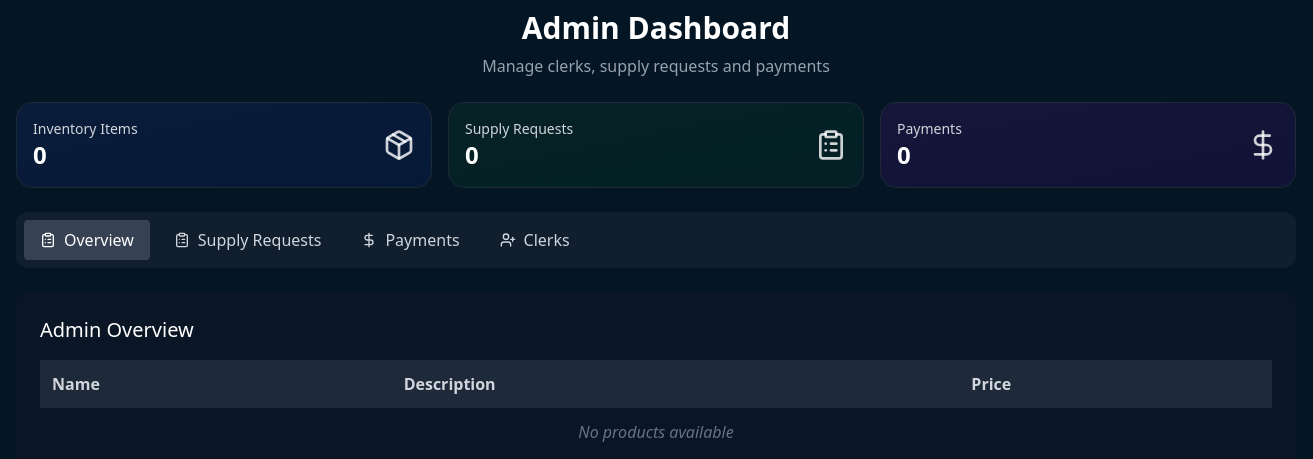
AdminDashboard › switches to supply requests tab
What coordinates should you click on to do the following:
click the button "Supply Requests"
I would click on:
 (248, 240)
Its box is [158,220,337,260].
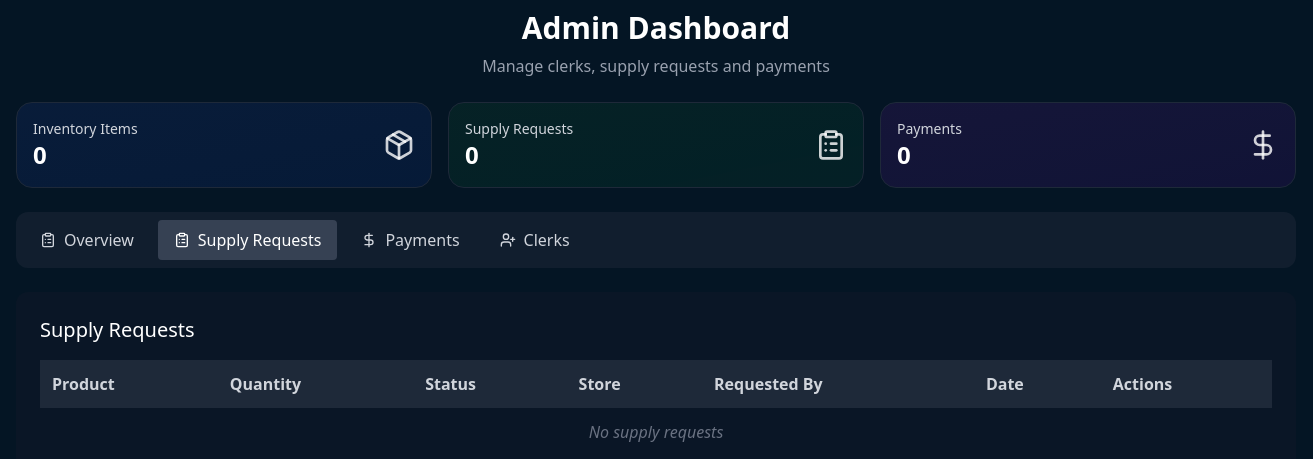
Now the column heading "Requested By" is shown, box [702,360,974,408]
